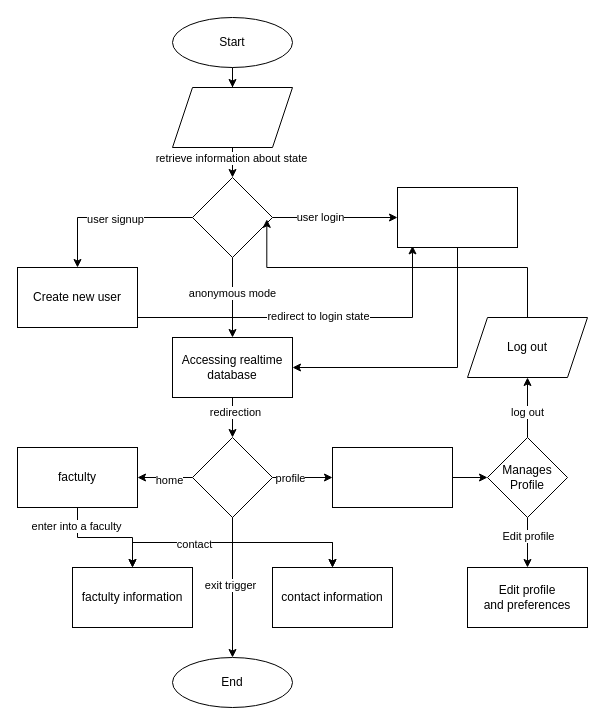
This 605x725 diagram has some shape labels left out. Each missing label, with the box of its shape:
Data synchronization: (396, 186, 518, 248)
Enters the app and reads current state: (172, 86, 292, 148)
navigation: (192, 436, 272, 518)
Select auth: (192, 176, 272, 258)
User profile (if logged in): (332, 446, 452, 508)
